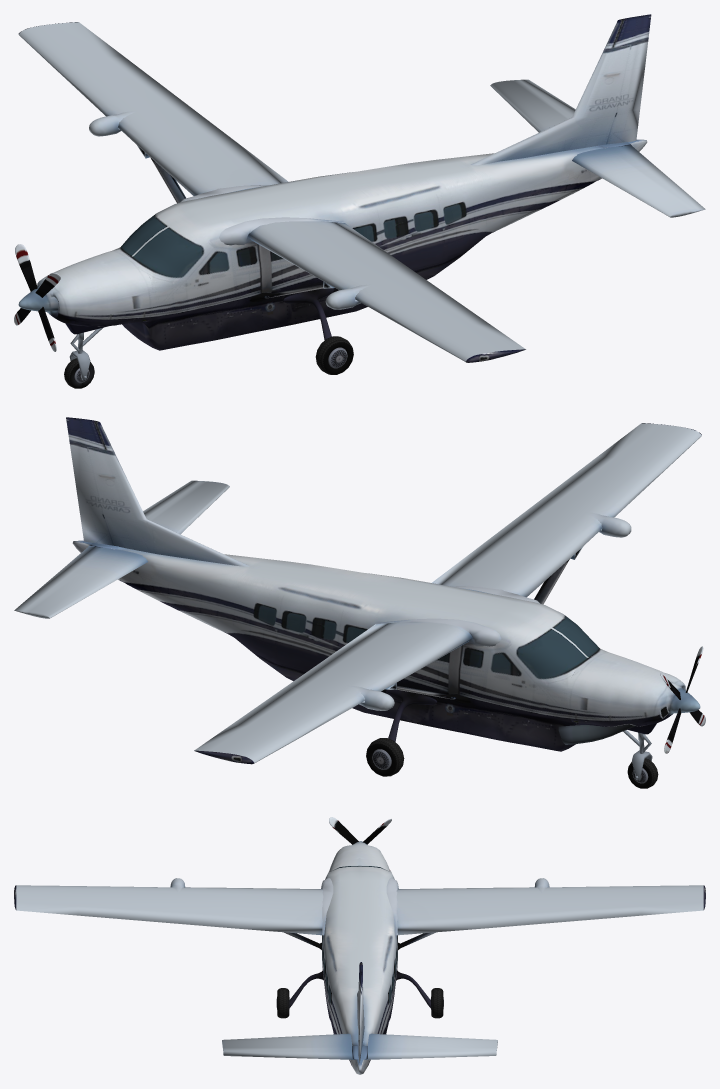
Rendered from Cessna_208_Caravan.fbx.
3 renders of one model, top to bottom at view 1: azimuth 30°, elevation 25°; view 2: azimuth 150°, elevation 25°; view 3: azimuth 270°, elevation 25°, orthographic. The views are drawn at different scales.
Visible parts, largest first — view 1: mesh8.dat.desirefx.me_.obj, mesh0.dat.desirefx.me_.obj, mesh3.dat.desirefx.me_.obj, mesh5.dat.desirefx.me_.obj, mesh6.dat.desirefx.me_.obj, mesh2.dat.desirefx.me_.obj; view 2: mesh8.dat.desirefx.me_.obj, mesh1.dat.desirefx.me_.obj, mesh5.dat.desirefx.me_.obj, mesh2.dat.desirefx.me_.obj, mesh6.dat.desirefx.me_.obj; view 3: mesh8.dat.desirefx.me_.obj, mesh5.dat.desirefx.me_.obj.
Boxes of the visible parts, box(x1,y1,x2,y2) form: mesh8.dat.desirefx.me_.obj: box(18, 14, 705, 362); mesh0.dat.desirefx.me_.obj: box(315, 336, 353, 374); mesh3.dat.desirefx.me_.obj: box(15, 244, 56, 351); mesh5.dat.desirefx.me_.obj: box(283, 288, 333, 339); mesh6.dat.desirefx.me_.obj: box(69, 328, 102, 380); mesh2.dat.desirefx.me_.obj: box(64, 358, 94, 388); mesh8.dat.desirefx.me_.obj: box(14, 417, 701, 764); mesh1.dat.desirefx.me_.obj: box(366, 738, 404, 776); mesh5.dat.desirefx.me_.obj: box(386, 690, 436, 741); mesh2.dat.desirefx.me_.obj: box(627, 758, 658, 788); mesh6.dat.desirefx.me_.obj: box(623, 730, 652, 780); mesh8.dat.desirefx.me_.obj: box(14, 841, 705, 1074); mesh5.dat.desirefx.me_.obj: box(289, 970, 430, 1008).
Bounding box in the file's own units: 16.24 × 5.75 × 19.99.
